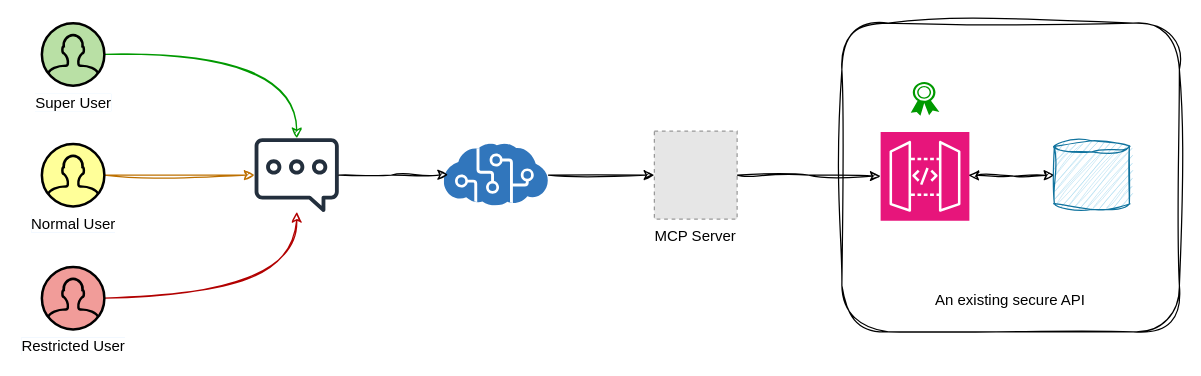
This 1201x376 diagram has some shape labels left out. Grey dashed boxes stand in for pictures. The box of each missing label's shape, as (x1, y1, x2, y2) in pixels:
AI Agent: (444, 143, 548, 206)
Data: (1053, 140, 1129, 210)
